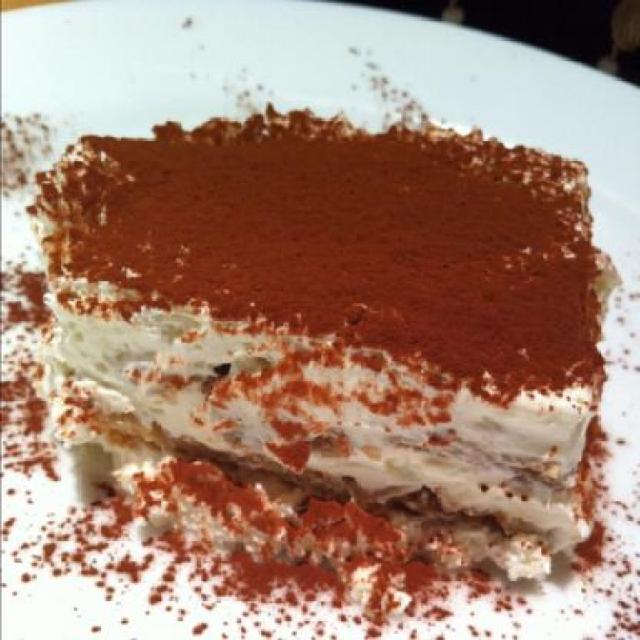Tiramisu: (48, 91, 627, 574)
